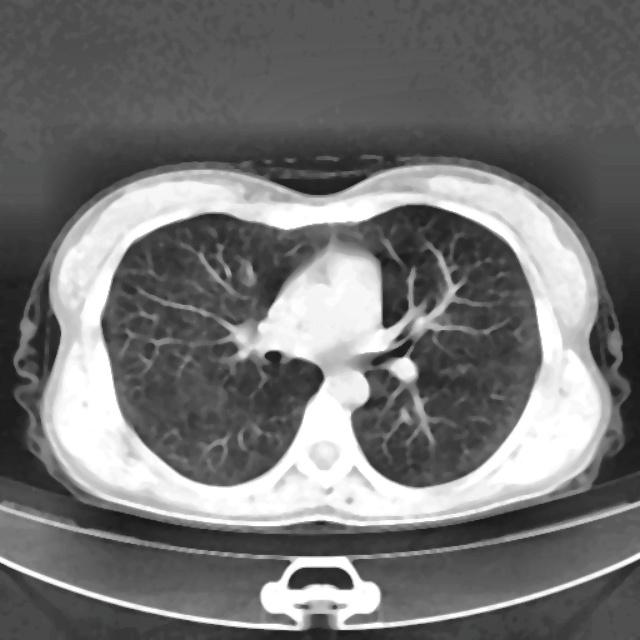covid: (13, 155, 629, 534)
